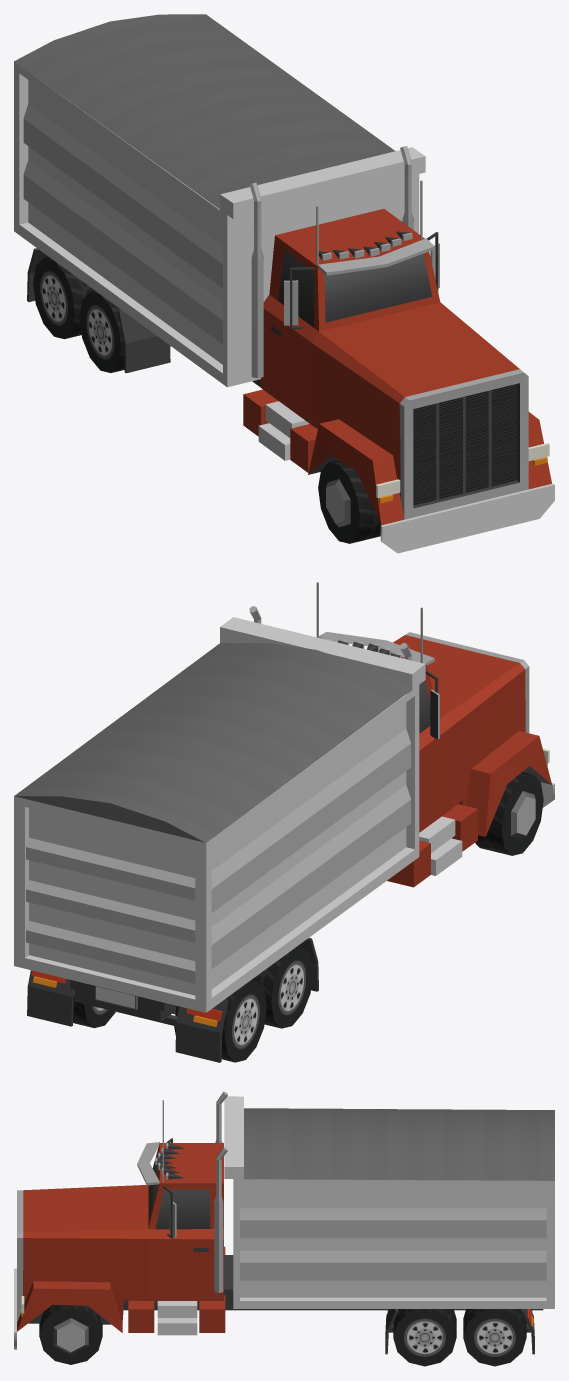
Rendered from TruckAmericanB.fbx.
The picture shows the model from 3 angles, top to bottom: view 1: azimuth 30°, elevation 25°; view 2: azimuth 150°, elevation 25°; view 3: azimuth 270°, elevation 25°; orthographic projection. The views are drawn at different scales.
Parts seen in each view (by area): view 1: TruckAmericanB, TireFR, TireBRY, TireBRX; view 2: TruckAmericanB, TireFR, TireBRX, TireBRY, TireBLY; view 3: TruckAmericanB, TireFL, TireBLY, TireBLX.
Boxes of the visible parts, x1,y1,x2,y2 form: TruckAmericanB: [14, 14, 554, 553]; TireFR: [318, 460, 380, 543]; TireBRY: [33, 256, 94, 339]; TireBRX: [79, 290, 170, 372]; TruckAmericanB: [14, 582, 554, 1062]; TireFR: [475, 772, 543, 855]; TireBRX: [252, 946, 313, 1028]; TireBRY: [174, 980, 266, 1062]; TireBLY: [73, 990, 115, 1028]; TruckAmericanB: [14, 1091, 554, 1354]; TireFL: [39, 1304, 102, 1364]; TireBLY: [463, 1309, 526, 1366]; TireBLX: [393, 1309, 456, 1366].
Size of the model in its own units: 225 by 313 by 726.
